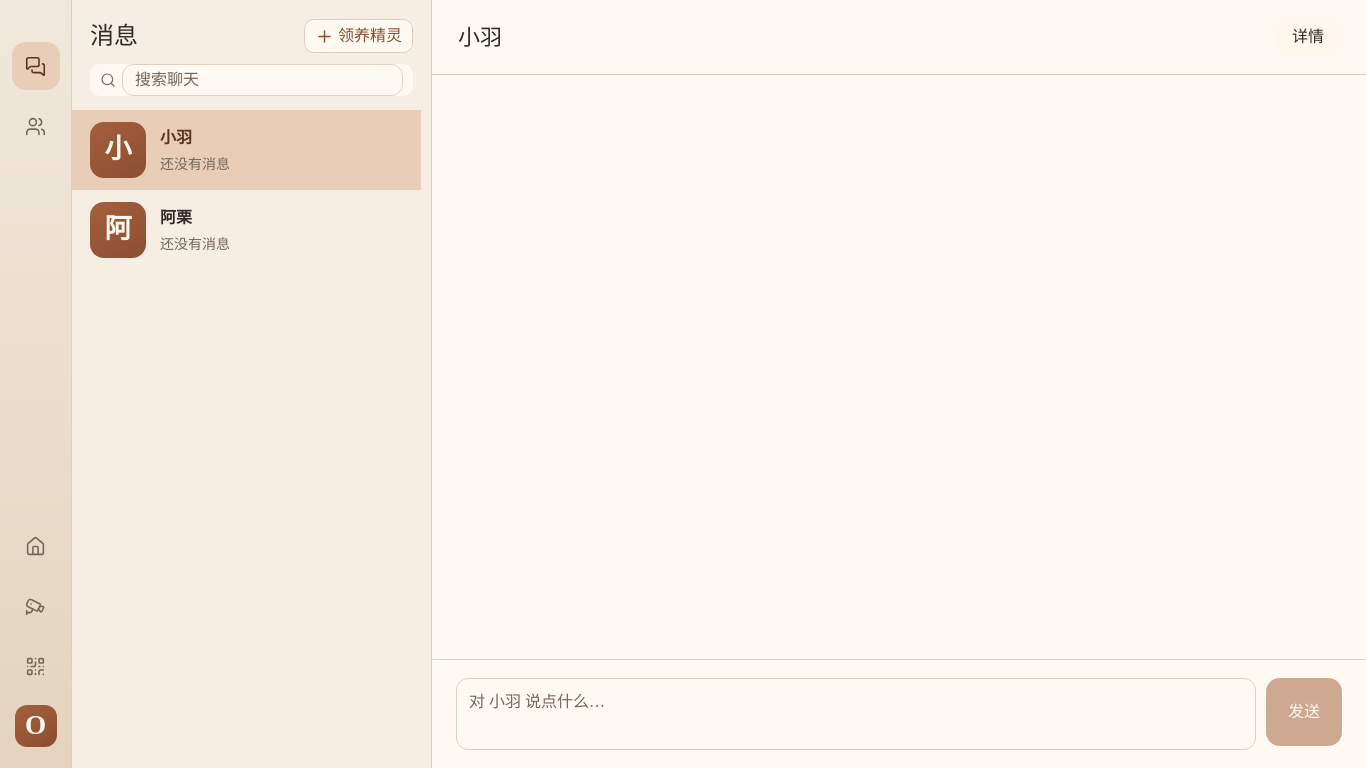
Test: ChatPage list pane headings › does not merge a cross-Elfie record from reply reconciliation
Type "开始同步" into the text box with placeholder "对 小羽 说点什么…" at (856, 714), box [456,678,1256,750]
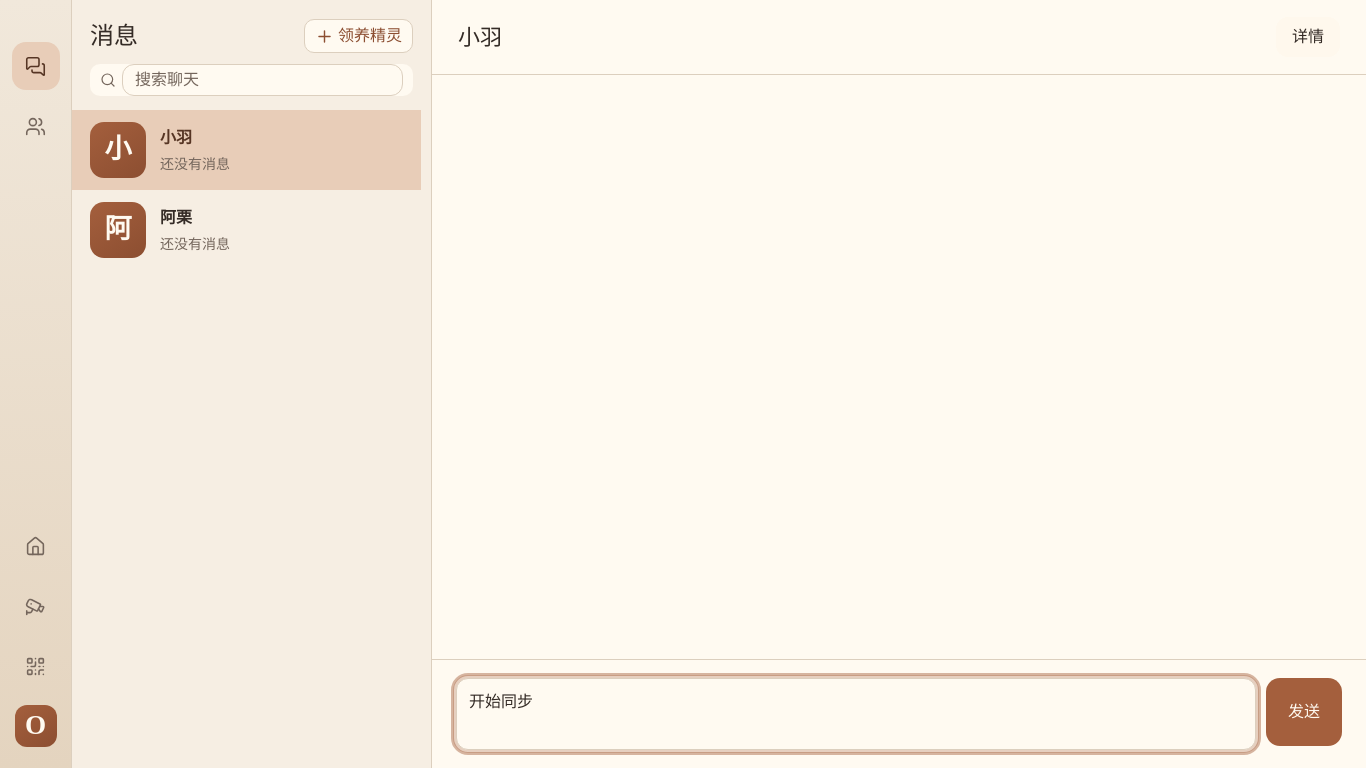
Click the button "发送" at (1304, 712), box [1266,678,1342,746]
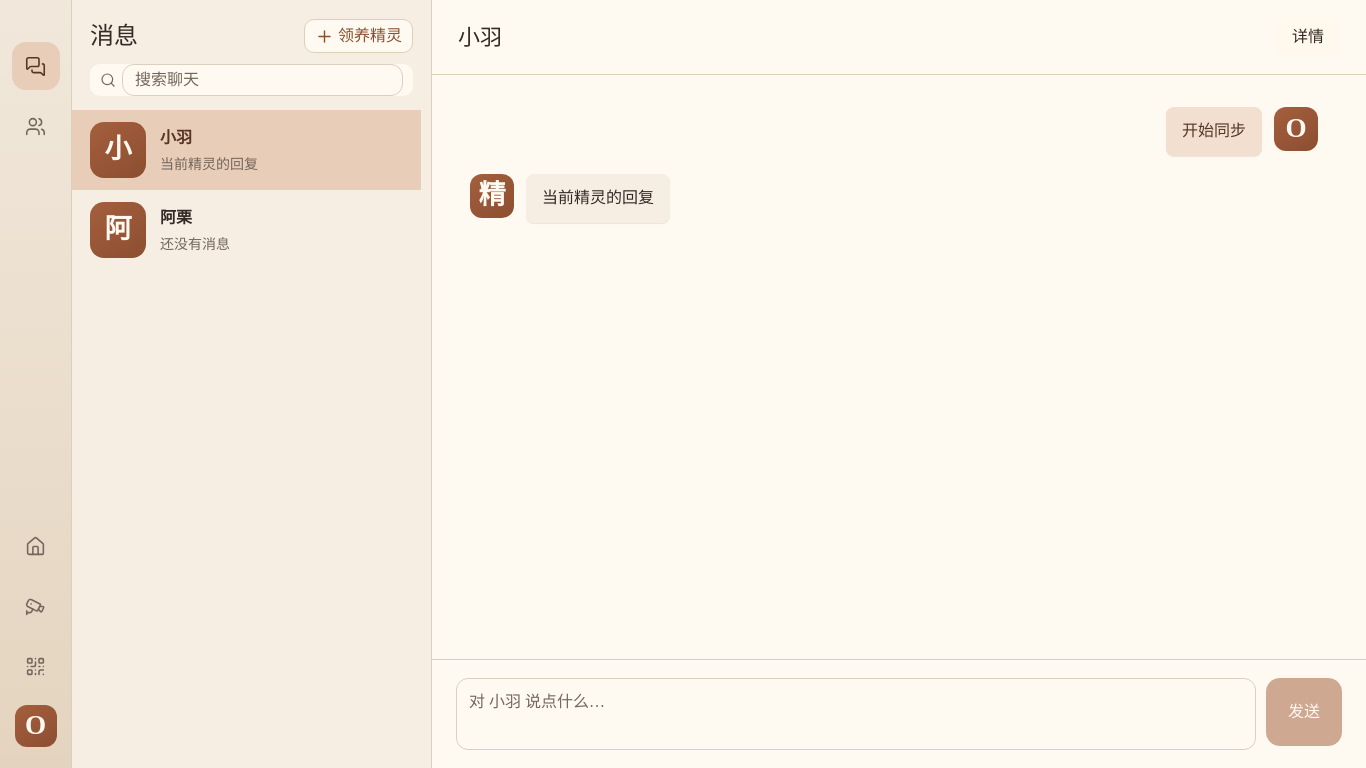
Now the 1st text "当前精灵的回复" is shown, box [160,154,258,174]
